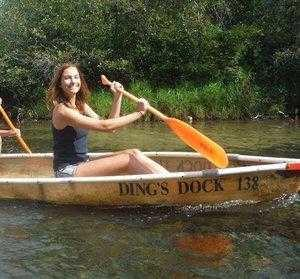kayak: (0, 149, 298, 208)
